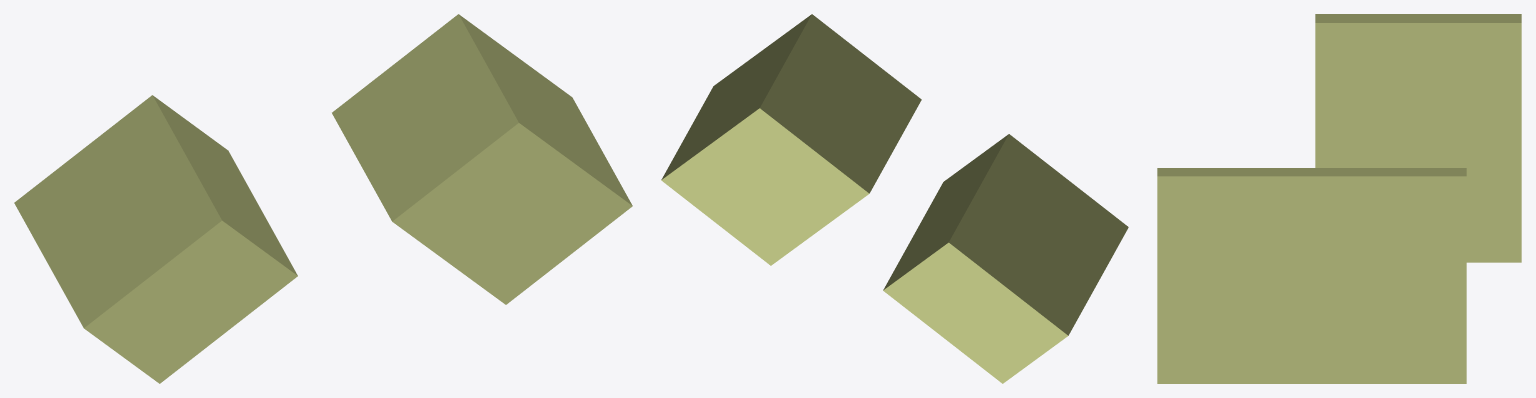
3 renders of one model, left to right at view 1: azimuth 30°, elevation 25°; view 2: azimuth 150°, elevation 25°; view 3: azimuth 270°, elevation 25°, orthographic. The views are drawn at different scales.
Visible parts, largest first — view 1: 0_1_0_0_1_0_3_0_3_0; view 2: 0_1_0_0_1_0_3_0_3_0; view 3: 0_1_0_0_1_0_3_0_3_0.
Part boxes in pixels (x1=…): 0_1_0_0_1_0_3_0_3_0: x1=14, y1=14, x2=632, y2=383; 0_1_0_0_1_0_3_0_3_0: x1=661, y1=14, x2=1128, y2=383; 0_1_0_0_1_0_3_0_3_0: x1=1157, y1=14, x2=1521, y2=383.
Size of the model in its own units: 22.11 by 10.58 by 10.6.
